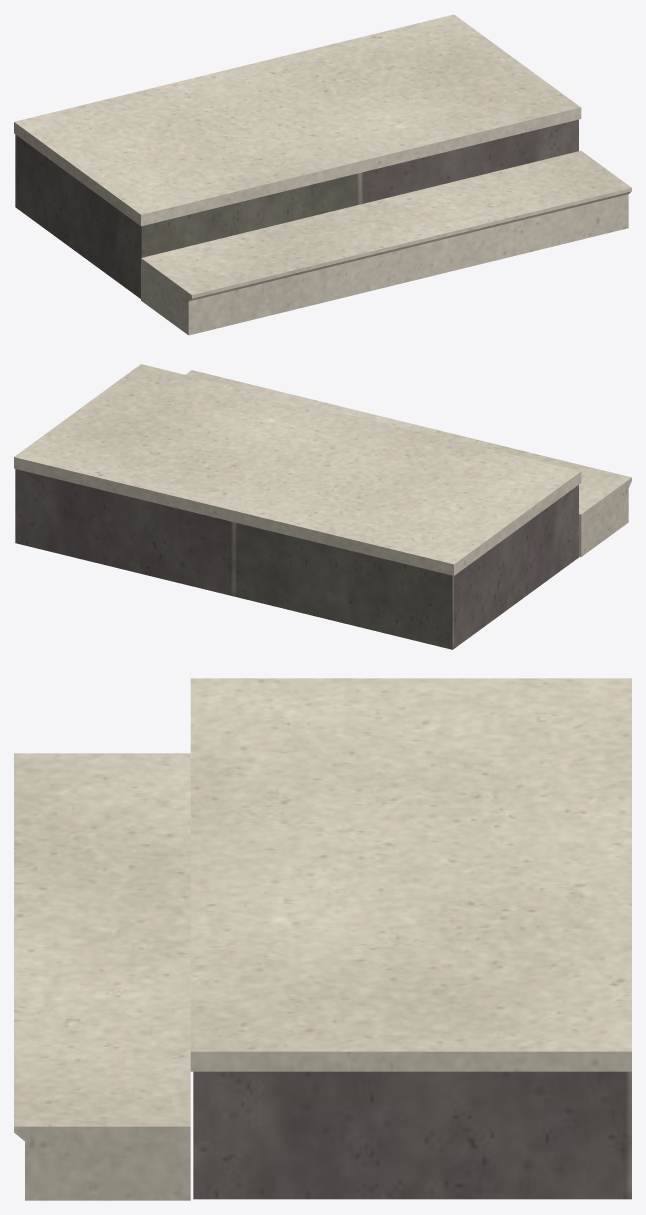
File: hall_steps.glb
3 views of the same model, one above another, from view 1: azimuth 30°, elevation 25°; view 2: azimuth 150°, elevation 25°; view 3: azimuth 270°, elevation 25° (orthographic). The views are drawn at different scales.
Visible parts, largest first — view 1: hall_steps_trim, hall_steps_plinth; view 2: hall_steps_trim, hall_steps_plinth; view 3: hall_steps_trim, hall_steps_plinth.
Boxes of the visible parts, <box> form: hall_steps_trim: <box>14,14,631,335</box>; hall_steps_plinth: <box>15,119,578,298</box>; hall_steps_trim: <box>14,364,631,575</box>; hall_steps_plinth: <box>15,469,578,649</box>; hall_steps_trim: <box>14,678,631,1200</box>; hall_steps_plinth: <box>193,1071,631,1199</box>.
Bounding box in the file's own units: 1.6 × 0.298 × 1.12.
Materials: 2 (2 with a texture image).
